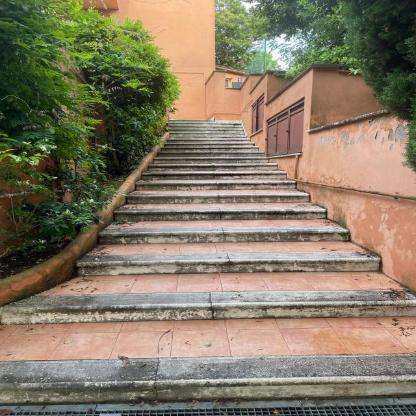stair: (88, 241, 384, 405), (168, 112, 257, 344)
